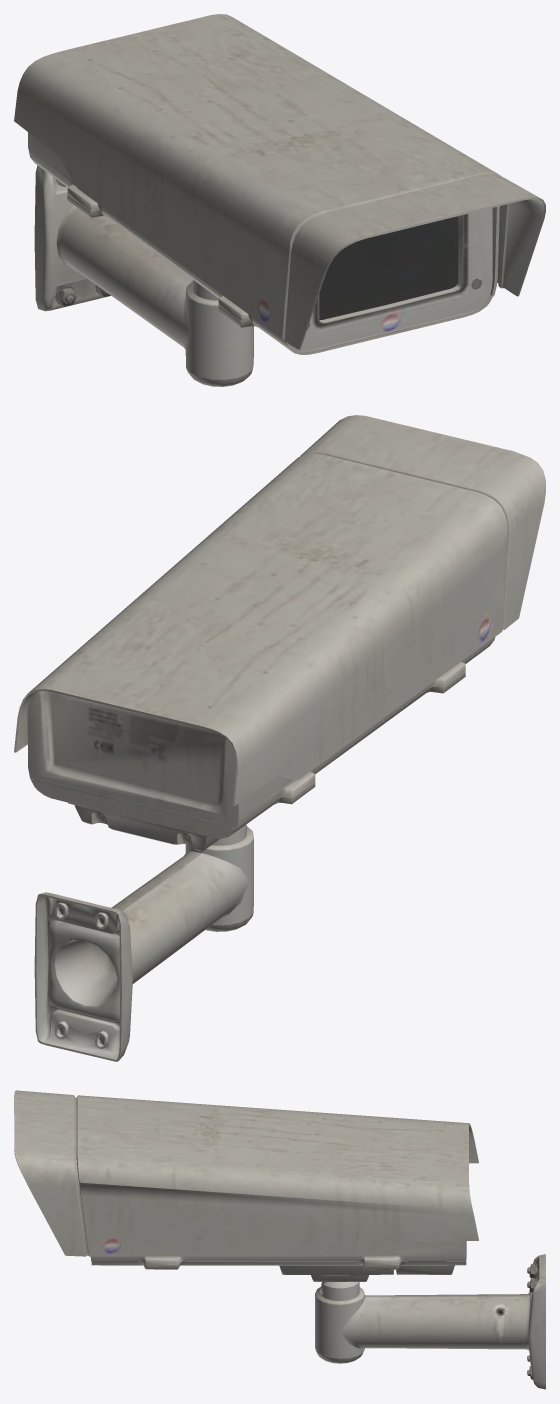
File: security_camera.glb
3 renders of one model, top to bottom at view 1: azimuth 30°, elevation 25°; view 2: azimuth 150°, elevation 25°; view 3: azimuth 270°, elevation 25°, orthographic. The views are drawn at different scales.
Parts seen in each view (by area): view 1: security_camera_02, security_camera_02_mount; view 2: security_camera_02, security_camera_02_mount; view 3: security_camera_02, security_camera_02_mount.
Part boxes in pixels (x1,y1,x2,y2): security_camera_02: [14, 14, 545, 354]; security_camera_02_mount: [34, 165, 253, 386]; security_camera_02: [14, 415, 545, 851]; security_camera_02_mount: [34, 824, 253, 1061]; security_camera_02: [14, 1090, 478, 1294]; security_camera_02_mount: [315, 1254, 545, 1389].
Size of the model in its own units: 0.1406 by 0.2086 by 0.3937.
Materials: 2 (2 with a texture image).
